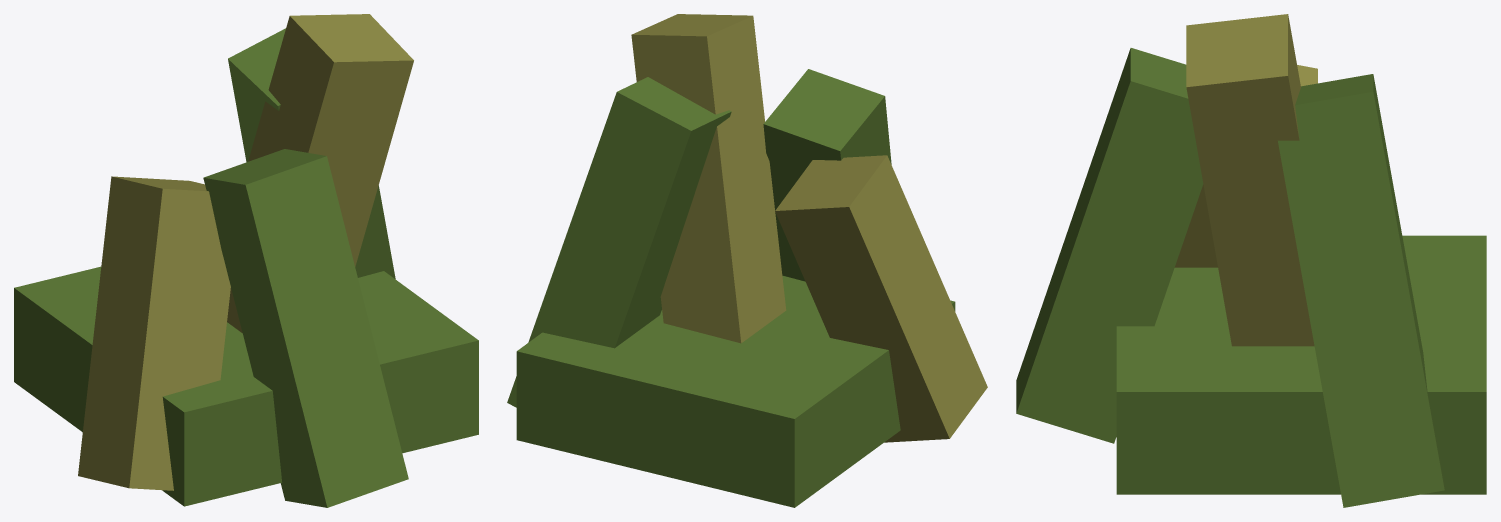
Rendered from grass_tuft.gltf.
The picture shows the model from 3 angles, left to right: view 1: azimuth 30°, elevation 25°; view 2: azimuth 150°, elevation 25°; view 3: azimuth 270°, elevation 25°; orthographic projection. The views are drawn at different scales.
Parts seen in each view (by area): view 1: blade_d, clump, blade_c, blade_a, blade_b; view 2: clump, blade_c, blade_a, blade_b, blade_d; view 3: clump, blade_b, blade_d, blade_a, blade_c.
Part boxes in pixels (x1=…): blade_d: x1=203, y1=149, x2=408, y2=507; clump: x1=14, y1=266, x2=478, y2=506; blade_c: x1=78, y1=176, x2=230, y2=490; blade_a: x1=227, y1=14, x2=413, y2=332; blade_b: x1=228, y1=28, x2=395, y2=278; clump: x1=516, y1=275, x2=955, y2=507; blade_c: x1=775, y1=155, x2=987, y2=442; blade_a: x1=631, y1=14, x2=786, y2=343; blade_b: x1=507, y1=77, x2=731, y2=407; blade_d: x1=763, y1=69, x2=891, y2=281; clump: x1=1116, y1=235, x2=1486, y2=494; blade_b: x1=1278, y1=74, x2=1444, y2=507; blade_d: x1=1016, y1=48, x2=1203, y2=443; blade_a: x1=1186, y1=14, x2=1314, y2=346; blade_c: x1=1174, y1=65, x2=1317, y2=267.
Size of the model in its own units: 0.2887 by 0.2991 by 0.286.
2 materials, 2 textured.
